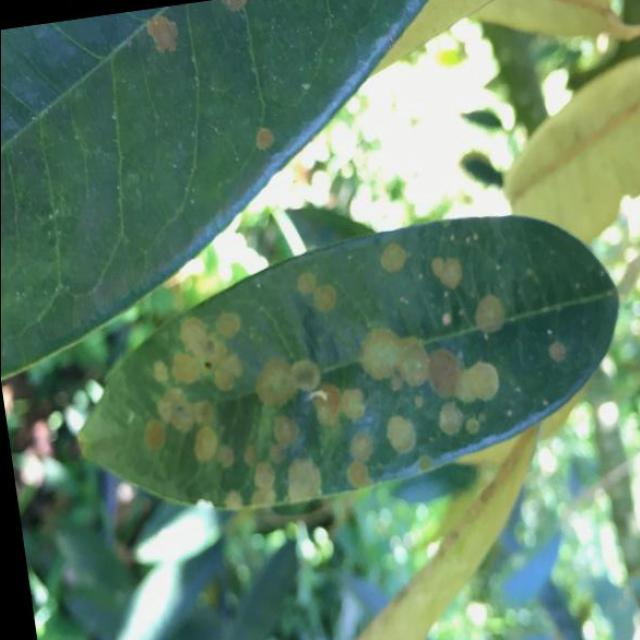Algal Leaf Spot: (37, 189, 640, 541)
